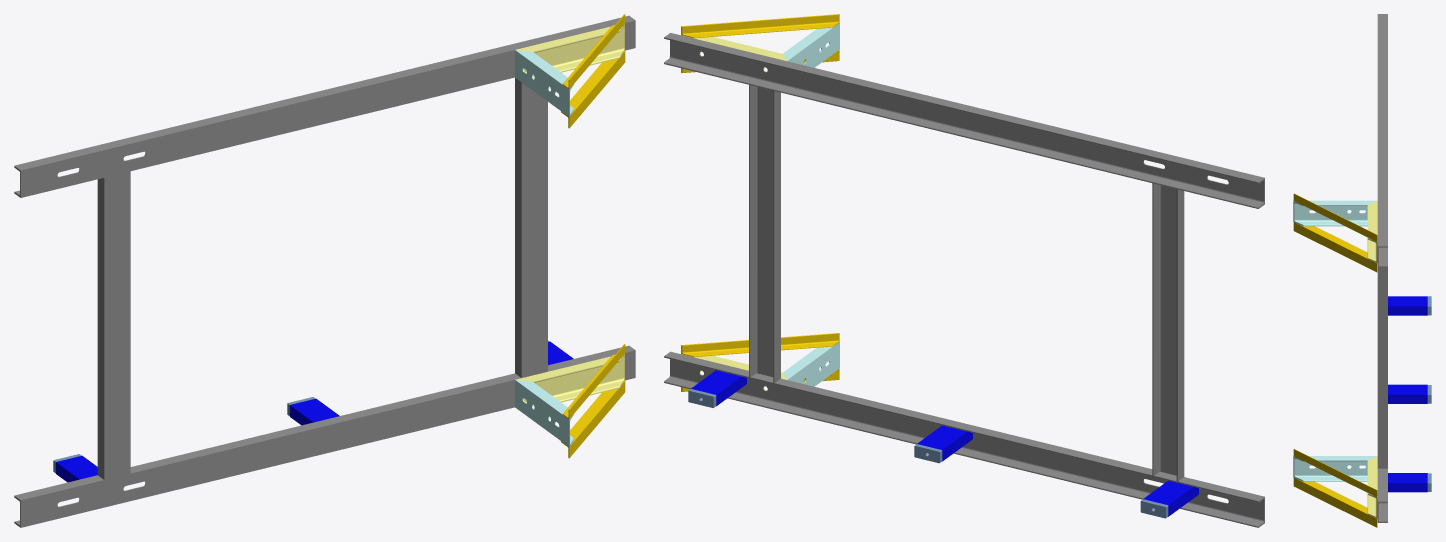
File: stapel.glb
The picture shows the model from 3 angles, left to right: view 1: azimuth 30°, elevation 25°; view 2: azimuth 150°, elevation 25°; view 3: azimuth 270°, elevation 25°; orthographic projection. The views are drawn at different scales.
Parts seen in each view (by area): view 1: empty_2, empty_3, empty_19, empty_18, empty_4, empty_8, empty_9, empty_5, empty_6, empty_10, empty_13, empty_14 (+2 smaller); view 2: empty_2, empty_3, empty_19, empty_18, empty_11, empty_7, empty_9, empty_5, empty_12, empty_14, empty_13; view 3: empty_2, empty_18, empty_9, empty_5, empty_10, empty_6, empty_12, empty_13, empty_14, empty_7, empty_11, empty_3 (+2 smaller).
Part boxes in pixels (bbox=[...]): empty_2: bbox=[14, 15, 635, 197]; empty_3: bbox=[14, 345, 635, 527]; empty_19: bbox=[97, 171, 130, 479]; empty_18: bbox=[515, 78, 547, 377]; empty_4: bbox=[515, 354, 624, 408]; empty_8: bbox=[515, 24, 624, 79]; empty_9: bbox=[515, 50, 574, 116]; empty_5: bbox=[515, 380, 574, 446]; empty_6: bbox=[561, 381, 625, 458]; empty_10: bbox=[561, 51, 625, 128]; empty_13: bbox=[290, 398, 339, 425]; empty_14: bbox=[56, 455, 97, 482]; empty_2: bbox=[664, 33, 1264, 208]; empty_3: bbox=[664, 351, 1264, 527]; empty_19: bbox=[1152, 183, 1184, 481]; empty_18: bbox=[749, 85, 780, 382]; empty_11: bbox=[681, 14, 839, 38]; empty_7: bbox=[681, 333, 839, 357]; empty_9: bbox=[783, 23, 839, 67]; empty_5: bbox=[783, 341, 839, 386]; empty_12: bbox=[691, 370, 746, 406]; empty_14: bbox=[1143, 480, 1198, 516]; empty_13: bbox=[917, 425, 972, 461]; empty_2: bbox=[1377, 14, 1387, 267]; empty_18: bbox=[1377, 267, 1387, 468]; empty_9: bbox=[1293, 200, 1377, 226]; empty_5: bbox=[1293, 456, 1377, 481]; empty_10: bbox=[1293, 222, 1377, 272]; empty_6: bbox=[1293, 478, 1377, 527]; empty_12: bbox=[1388, 473, 1427, 492]; empty_13: bbox=[1388, 384, 1427, 403]; empty_14: bbox=[1388, 296, 1427, 315]; empty_7: bbox=[1293, 449, 1377, 497]; empty_11: bbox=[1293, 193, 1377, 241]; empty_3: bbox=[1377, 468, 1387, 522].
Size of the model in its own units: 2800 by 1645 by 705.
